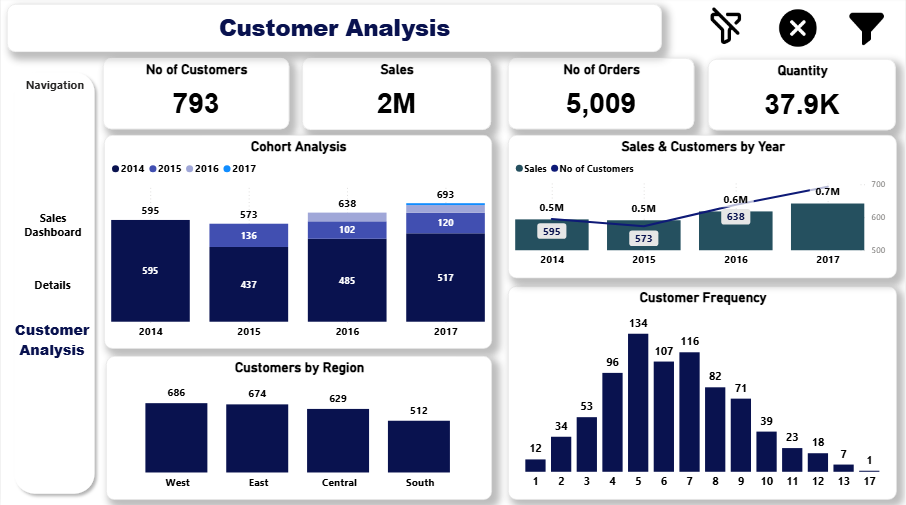

What the dashboard file says about the page in this screenshot:
{"tool":"powerbi","page":{"name":"Customer Analysis","canvas":[1280,720],"ordinal":2},"visuals":[{"type":"textbox","box":[8.5,9.9,928.3,68],"z":0},{"type":"shape","box":[9.9,97.8,131.8,615.1],"z":0,"group":"g2"},{"type":"card","title":"Sales","fields":{"Values":["All_Measures.Sales"]},"box":[426.6,86.5,267.9,102],"z":1000},{"type":"textbox","box":[25.5,107.7,102,41.1],"z":1000,"group":"g2"},{"type":"card","title":"No of Orders","fields":{"Values":["All_Measures.No of Orders"]},"box":[718.6,86.5,263.6,100.6],"z":2000},{"type":"actionButton","box":[8.5,279.2,130.4,85],"z":2000,"group":"g2"},{"type":"group","id":"g1","title":"Group 2","box":[1054.5,99.2,225.4,599.5],"z":3000},{"type":"actionButton","box":[9.9,386.9,126.1,41.1],"z":3000,"group":"g2"},{"type":"card","title":"No of Customers","fields":{"Values":["All_Measures.No of Customers"]},"box":[144.6,86.5,263.6,100.6],"z":4000},{"type":"actionButton","box":[11.3,449.3,121.9,72.3],"z":4000,"group":"g2"},{"type":"card","fields":{"Values":["All_Measures.% Old Customers Sales"]},"box":[603.8,129,92.1,59.5],"z":5000},{"type":"card","fields":{"Values":["All_Measures.% old customers order"]},"box":[890.1,124.7,92.1,63.8],"z":6000},{"type":"group","id":"g2","title":"Group 1","box":[8.5,97.8,133.2,615.1],"z":7000},{"type":"card","fields":{"Values":["All_Measures.% New Customer Sales"]},"box":[426.6,124.7,83.6,63.8],"z":8000},{"type":"card","fields":{"Values":["All_Measures.% New Customer Order"]},"box":[718.6,124.7,83.6,62.4],"z":9000},{"type":"card","title":"Quantity","fields":{"Values":["All_Measures.Quantity"]},"box":[1002,87.9,266.5,100.6],"z":10000},{"type":"card","fields":{"Values":["All_Measures.% New Customers"]},"box":[146,124.7,92.1,63.8],"z":11000},{"type":"columnChart","title":"Cohort Analysis","fields":{"Y":["All_Measures.No of Customers"],"Category":["Calendar.Year"],"Series":["Dim_Customers.First Order Co"]},"box":[146,195.6,549.9,303.3],"z":12000},{"type":"clusteredColumnChart","title":"Customer Frequency","fields":{"Category":["Dim_Customers.Orders"],"Y":["All_Measures.No of Customers"]},"box":[718.6,409.6,551.3,303.3],"z":13000},{"type":"columnChart","title":"Customers by Region","fields":{"Category":["Dim_Region.Region"],"Y":["All_Measures.No of Customers"]},"box":[148.8,508.8,547.1,204.1],"z":14000},{"type":"lineStackedColumnComboChart","title":"Sales & Customers by Year","fields":{"Y2":["All_Measures.No of Customers"],"Y":["All_Measures.Sales"],"Category":["Calendar.Year"]},"box":[718.6,195.6,551.3,202.7],"z":15000},{"type":"card","fields":{"Values":["All_Measures.% Old Customers"]},"box":[315.3,124.1,92.1,62.4],"z":16000},{"type":"image","box":[1184.7,10.4,83.3,68.5],"z":17000},{"type":"image","box":[1082,10.4,95.3,68.5],"z":18000},{"type":"image","box":[979.3,10.4,95.3,68.5],"z":19000},{"type":"actionButton","box":[650.6,25.5,255.1,39.7],"z":21000}]}

Visuals, with their boxes in screenshot pixels (x1, y1, x2, y2), scaled from the page's 1280x720 canvas onto the 906x505 screenshot:
textbox: box=[6, 7, 663, 55]
shape: box=[7, 69, 100, 500]
"Sales" card: box=[302, 61, 492, 132]
textbox: box=[18, 76, 90, 104]
"No of Orders" card: box=[509, 61, 695, 131]
actionButton: box=[6, 196, 98, 255]
"Group 2" group: box=[746, 70, 905, 490]
actionButton: box=[7, 271, 96, 300]
"No of Customers" card: box=[102, 61, 289, 131]
actionButton: box=[8, 315, 94, 366]
card - All_Measures.% Old Customers Sales: box=[427, 90, 493, 132]
card - All_Measures.% old customers order: box=[630, 87, 695, 132]
"Group 1" group: box=[6, 69, 100, 500]
card - All_Measures.% New Customer Sales: box=[302, 87, 361, 132]
card - All_Measures.% New Customer Order: box=[509, 87, 568, 131]
"Quantity" card: box=[709, 62, 898, 132]
card - All_Measures.% New Customers: box=[103, 87, 169, 132]
"Cohort Analysis" columnChart: box=[103, 137, 493, 350]
"Customer Frequency" clusteredColumnChart: box=[509, 287, 899, 500]
"Customers by Region" columnChart: box=[105, 357, 493, 500]
"Sales & Customers by Year" lineStackedColumnComboChart: box=[509, 137, 899, 279]
card - All_Measures.% Old Customers: box=[223, 87, 288, 131]
image: box=[839, 7, 898, 55]
image: box=[766, 7, 833, 55]
image: box=[693, 7, 761, 55]
actionButton: box=[461, 18, 641, 46]
